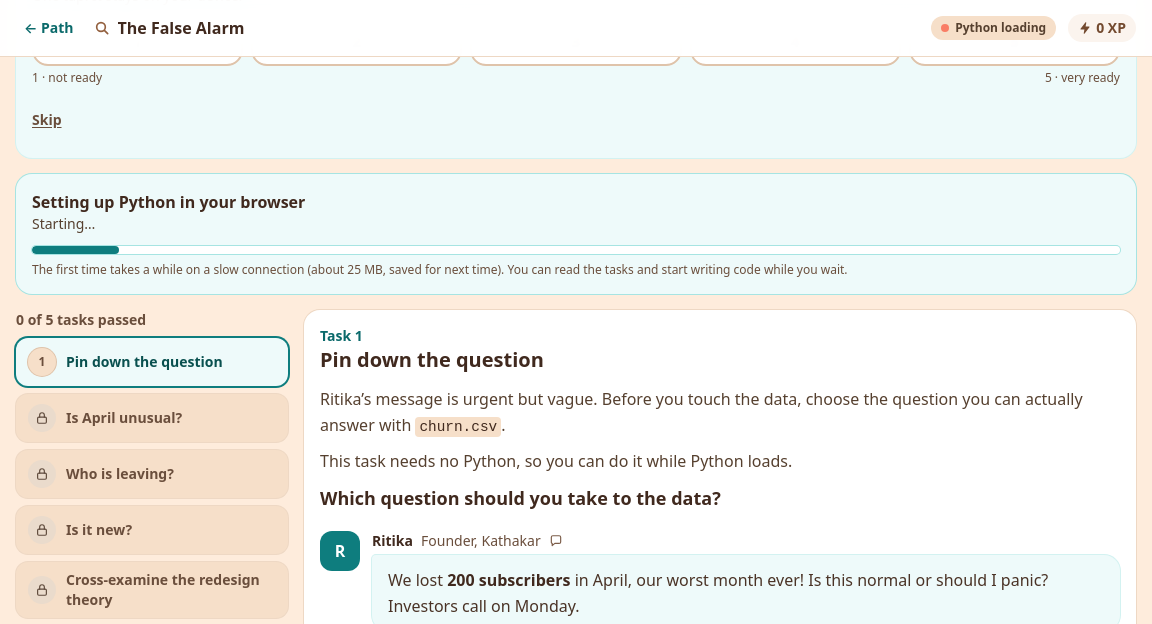
Test: question tasks in a mission › shows a passed question task solved when the learner comes back to it
(page scrolled)
Check: the heading "Pin down the question" is shown, box [320,346,544,373]
Type keys "2"
Press Enter
(page scrolled)
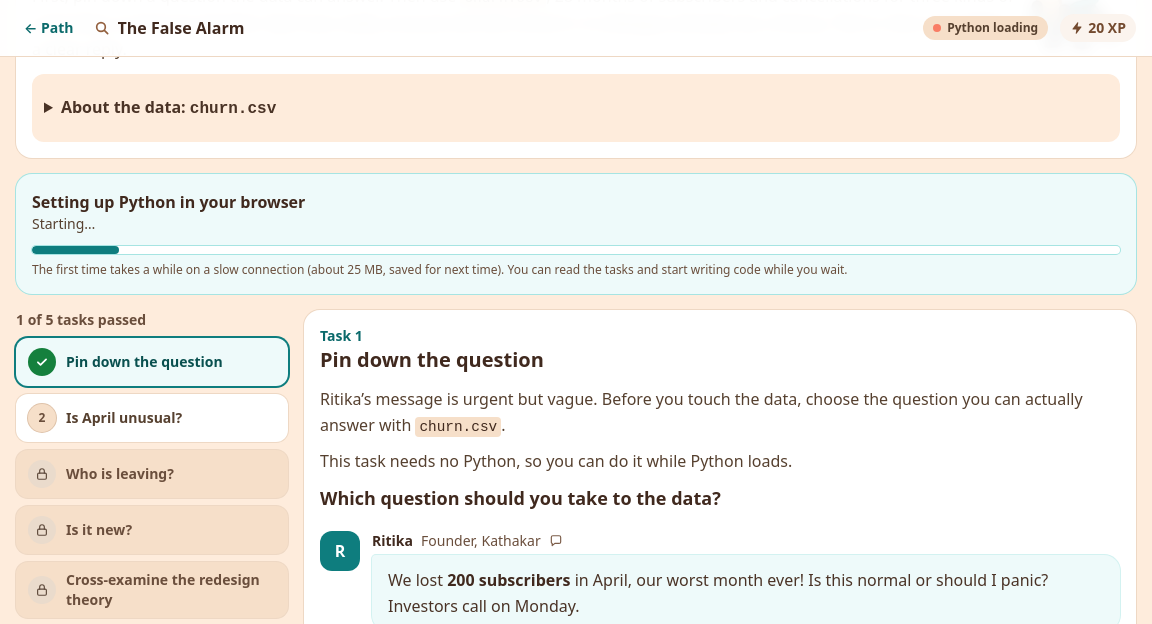
Click the button "2 Is April unusual?" at (152, 418), box [16,394,288,442]
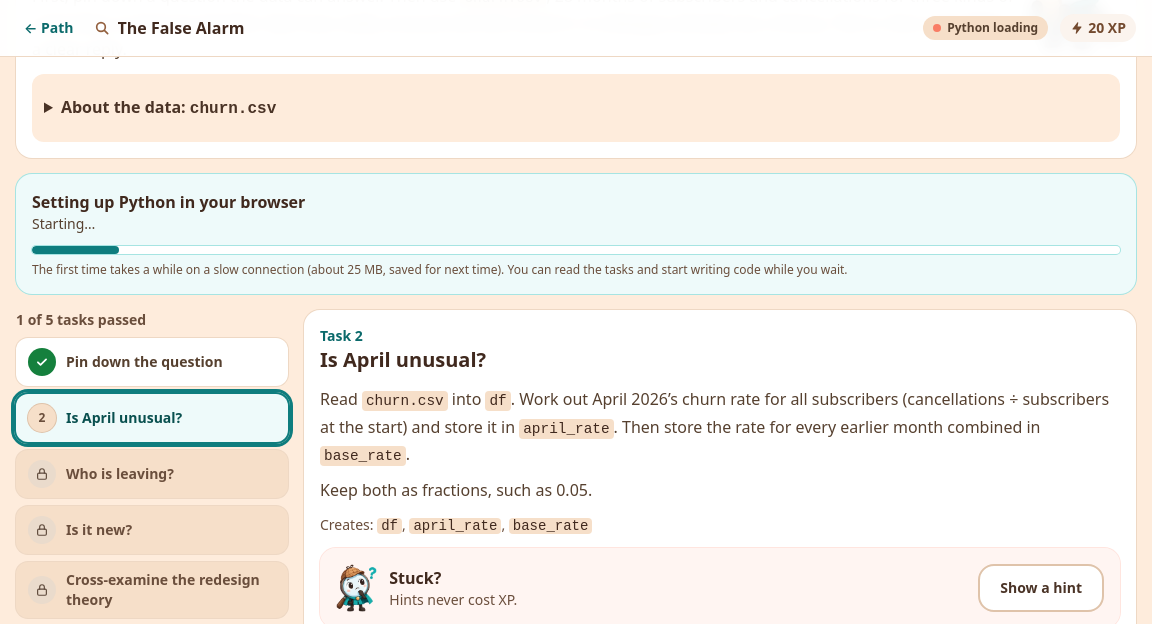
Click the button "Pin down the question" at (152, 362), box [16,338,288,386]
(page scrolled)
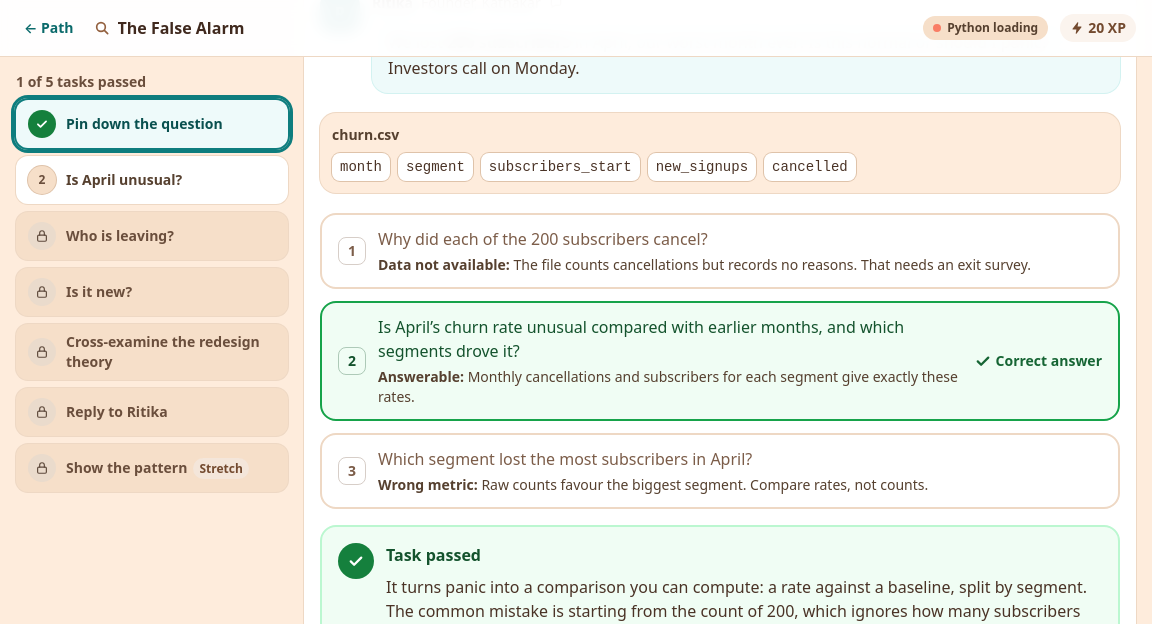
Check: the text "Correct answer" is shown, box [974,351,1102,371]
